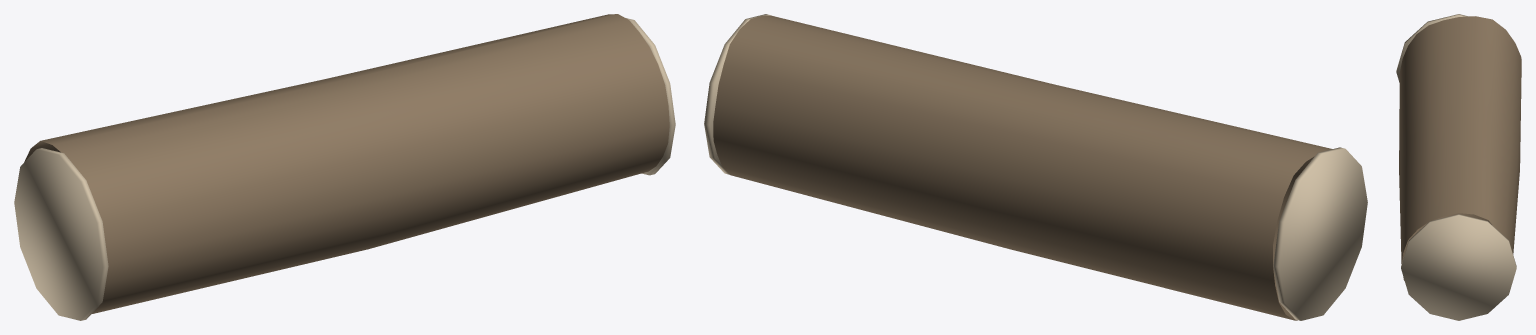
The model's file is rail_log_0.glb.
The picture shows the model from 3 angles, left to right: view 1: azimuth 30°, elevation 25°; view 2: azimuth 150°, elevation 25°; view 3: azimuth 270°, elevation 25°; orthographic projection. The views are drawn at different scales.
Visible parts, largest first — view 1: g_bark, g_endgrain; view 2: g_bark, g_endgrain; view 3: g_bark, g_endgrain.
Part boxes in pixels (left/top/right/bottom): g_bark: left=24, top=14, right=669, bottom=314; g_endgrain: left=14, top=18, right=675, bottom=320; g_bark: left=713, top=15, right=1332, bottom=320; g_endgrain: left=704, top=14, right=1367, bottom=320; g_bark: left=1399, top=16, right=1521, bottom=280; g_endgrain: left=1396, top=14, right=1516, bottom=320.
Size of the model in its own units: 1.02 by 0.272 by 0.2726.
